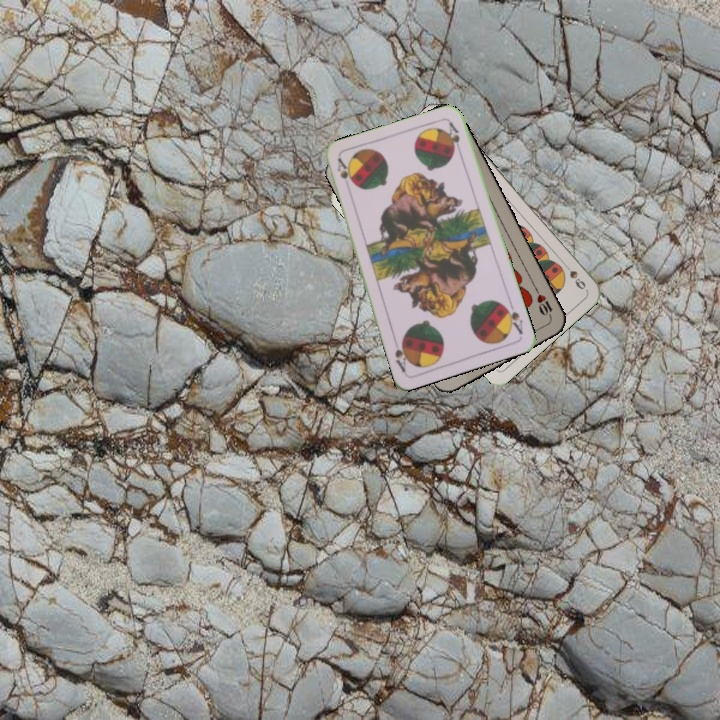H10: (531, 284, 555, 322)
S9: (558, 258, 589, 292)
SA: (500, 298, 525, 337), (333, 154, 353, 183)
